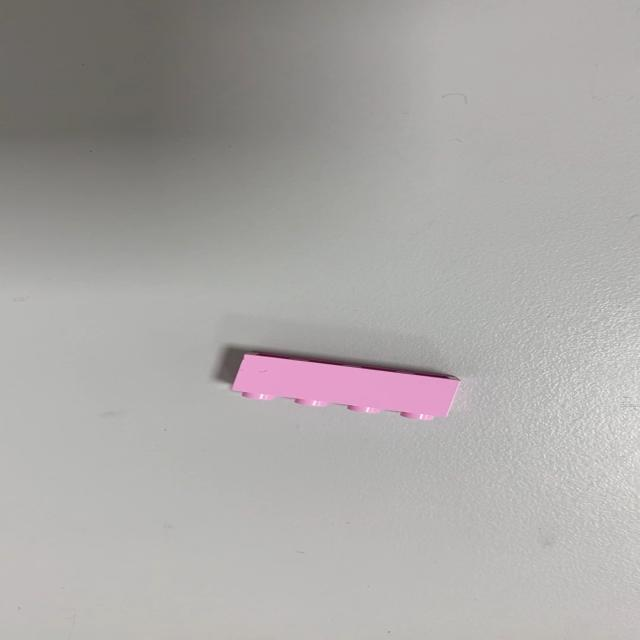C4x1x1: (228, 350, 461, 421)
